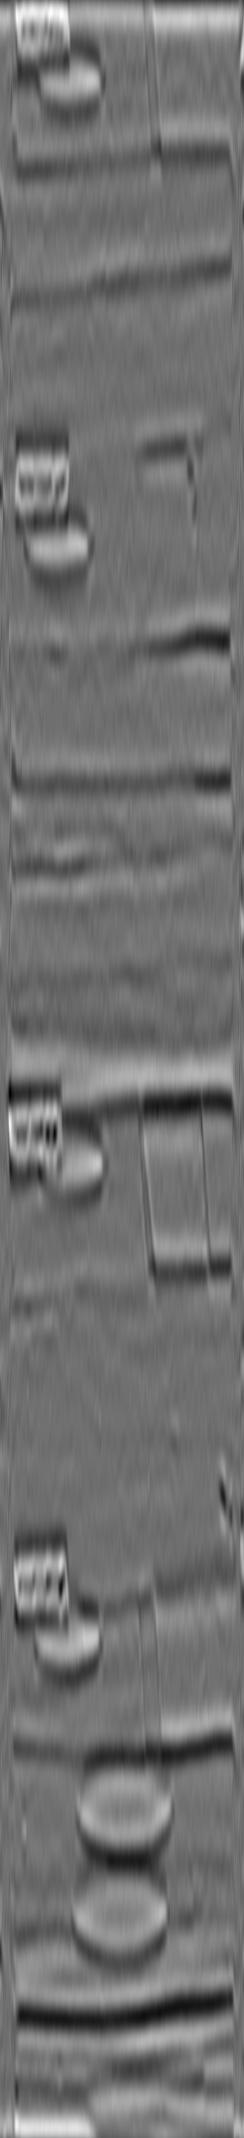hplug: (29, 1124, 115, 1203), (16, 503, 100, 579), (29, 44, 116, 115), (27, 1606, 109, 1681)
scal: (70, 1759, 187, 1867), (65, 1868, 183, 1970)
vplug: (125, 435, 209, 652), (129, 1583, 229, 1759), (134, 1, 230, 164), (134, 1109, 218, 1278)
